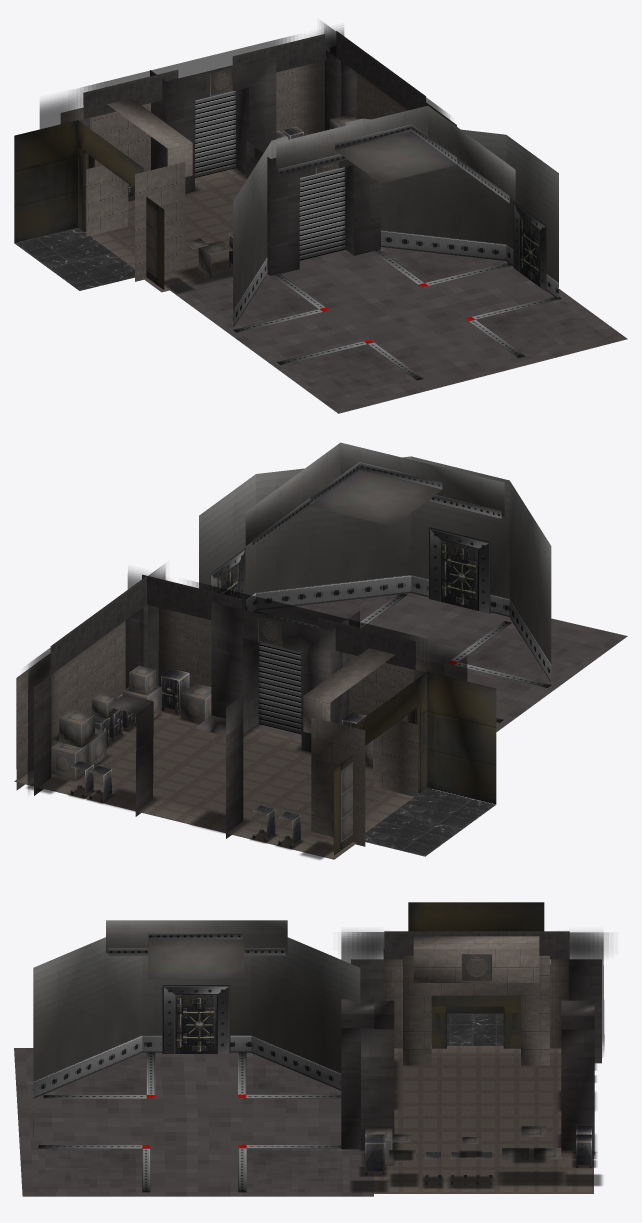
The model's file is cashbot_cfo.glb.
The picture shows the model from 3 angles, top to bottom: view 1: azimuth 30°, elevation 25°; view 2: azimuth 150°, elevation 25°; view 3: azimuth 270°, elevation 25°; orthographic projection. The views are drawn at different scales.
Visible parts, largest first — view 1: EndVaultFloor, WallsBottem2, elevator, CFOLobbyDoorFrame1, ElevatorFrameBase_0, RollUpFrame, EVwallsTop, CFOLobbyFloor, Platform7, Platform1, Platform6, ground (+24 smaller); view 2: WallsBottem2, CFOLobbyFloor, elevator, EndVaultFloor, CFOLobbyDoorFrame2, ElevatorFrameBase_0, CFOMidVaultWall4, EVwallsTop, CFOLobbyDoorFrame1, Platform7, ground, EVtrim1 (+29 smaller); view 3: EndVaultFloor, WallsBottem2, CFOLobbyFloor, ElevatorFrameBase_0, Platform1, Platform5, ElevatorFrameTop_0, CFOLobbyDoorFrame1, EVvaultDoor1, elevator, EVtrim1, CFOLobbyDoorFrame2 (+25 smaller).
Boxes of the visible parts, x1,y1,x2,y2 form: EndVaultFloor: (165, 249, 627, 413); WallsBottem2: (233, 118, 558, 310); elevator: (14, 120, 143, 242); CFOLobbyDoorFrame1: (150, 54, 276, 192); ElevatorFrameBase_0: (86, 162, 185, 281); RollUpFrame: (254, 148, 380, 275); EVwallsTop: (276, 105, 515, 200); CFOLobbyFloor: (84, 168, 246, 292); Platform7: (277, 339, 423, 401); Platform1: (465, 296, 611, 357); Platform6: (183, 274, 329, 332); ground: (14, 227, 134, 290); WallsBottem2: (199, 456, 551, 663); CFOLobbyFloor: (14, 707, 429, 859); elevator: (356, 671, 496, 804); EndVaultFloor: (254, 593, 627, 739); CFOLobbyDoorFrame2: (211, 602, 347, 751); ElevatorFrameBase_0: (311, 717, 417, 846); CFOMidVaultWall4: (16, 620, 125, 790); EVwallsTop: (245, 442, 504, 545); CFOLobbyDoorFrame1: (107, 694, 243, 838); Platform7: (447, 621, 605, 687); ground: (365, 788, 495, 856); EVtrim1: (246, 575, 551, 681); EndVaultFloor: (14, 1048, 373, 1196); WallsBottem2: (33, 937, 360, 1080); CFOLobbyFloor: (374, 1046, 593, 1193); ElevatorFrameBase_0: (403, 955, 550, 1065); Platform1: (38, 1145, 150, 1192); Platform5: (238, 1145, 349, 1192); ElevatorFrameTop_0: (413, 936, 539, 982); CFOLobbyDoorFrame1: (561, 1000, 594, 1155); EVvaultDoor1: (162, 985, 230, 1053); elevator: (408, 902, 544, 1013); EVtrim1: (33, 1035, 341, 1136); CFOLobbyDoorFrame2: (361, 1000, 394, 1150).
Bounding box in the file's own units: 131 × 60.33 × 185.
19 materials, 19 textured.
